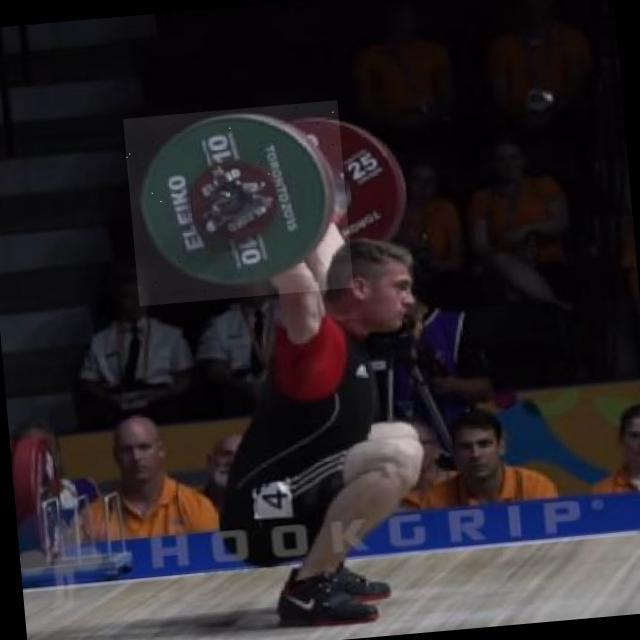barbell: (124, 101, 355, 307)
